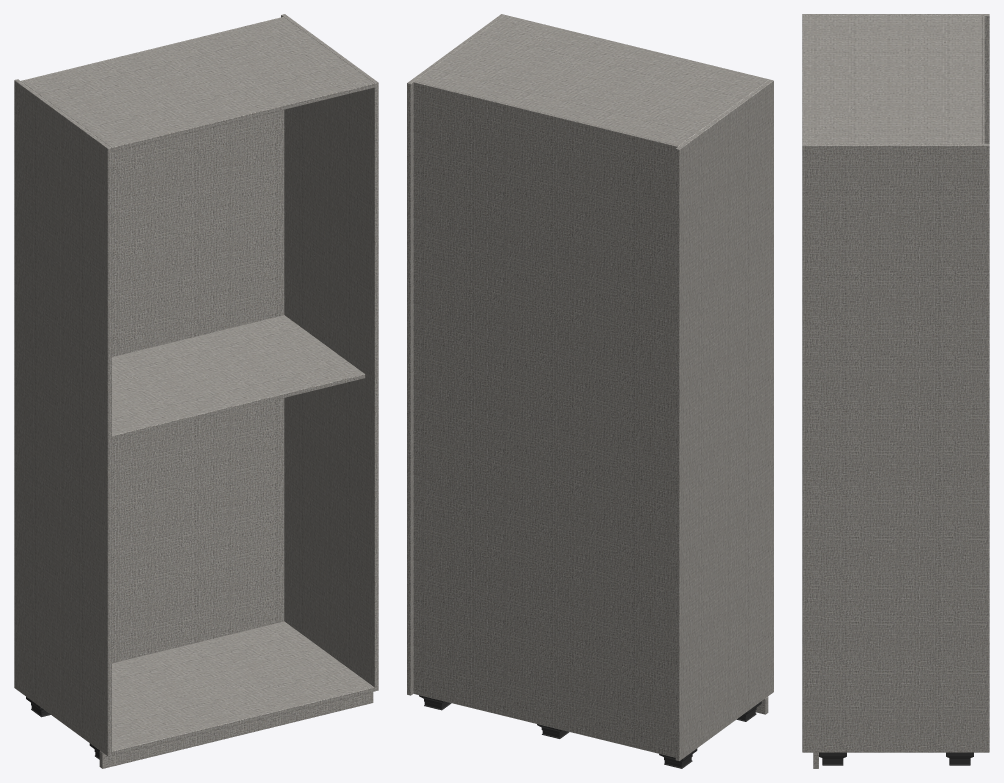
File: cbib12142.gltf
3 renders of one model, left to right at view 1: azimuth 30°, elevation 25°; view 2: azimuth 150°, elevation 25°; view 3: azimuth 270°, elevation 25°, orthographic.
Visible parts, largest first — view 1: CBIB12142; view 2: CBIB12142; view 3: CBIB12142.
Boxes of the visible parts, box(x1,y1,x2,y2) form: CBIB12142: box(14, 14, 378, 768); CBIB12142: box(407, 14, 773, 768); CBIB12142: box(802, 14, 989, 768).
Size of the model in its own units: 1 by 2.2 by 0.6.
Materials: 3 (2 with a texture image).
